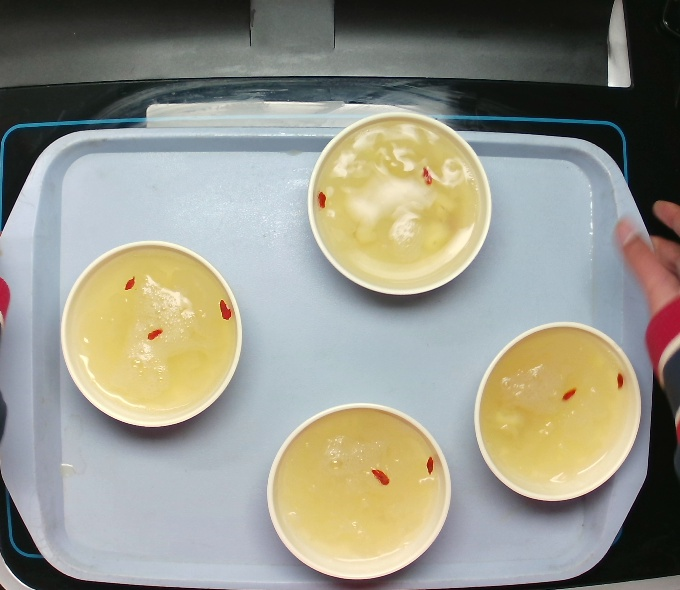wcq-YinErLianZiGeng: (260, 389, 455, 590), (51, 237, 246, 437), (301, 106, 496, 306), (464, 314, 654, 515)
